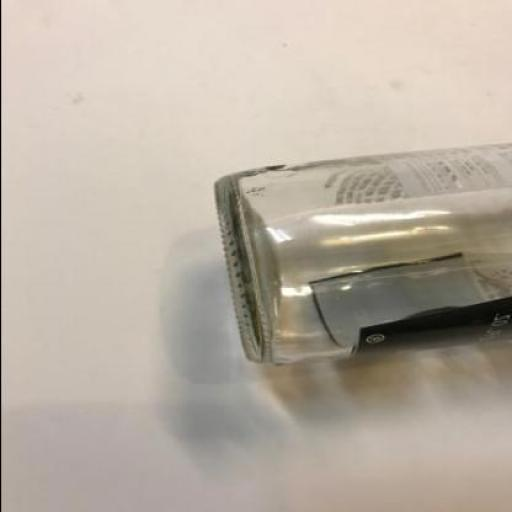glass: (212, 143, 510, 363)
